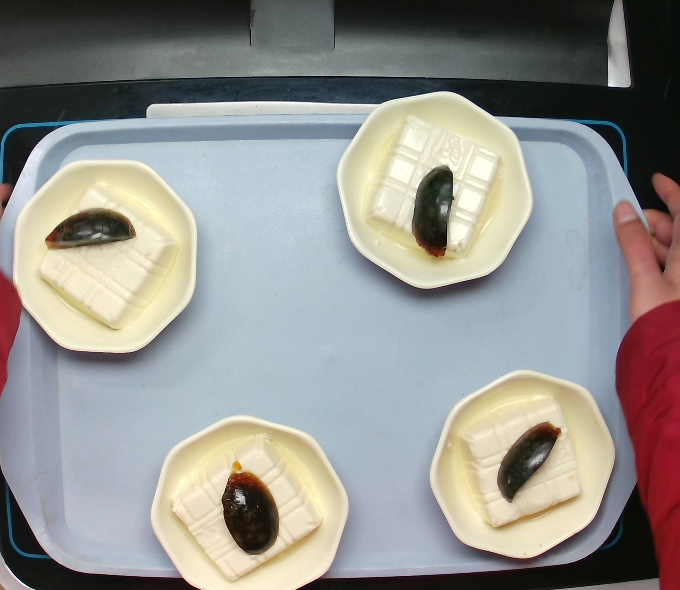wcq-PiDanDouFu: (27, 183, 178, 332), (360, 118, 511, 267), (447, 388, 598, 537), (172, 433, 323, 582)
